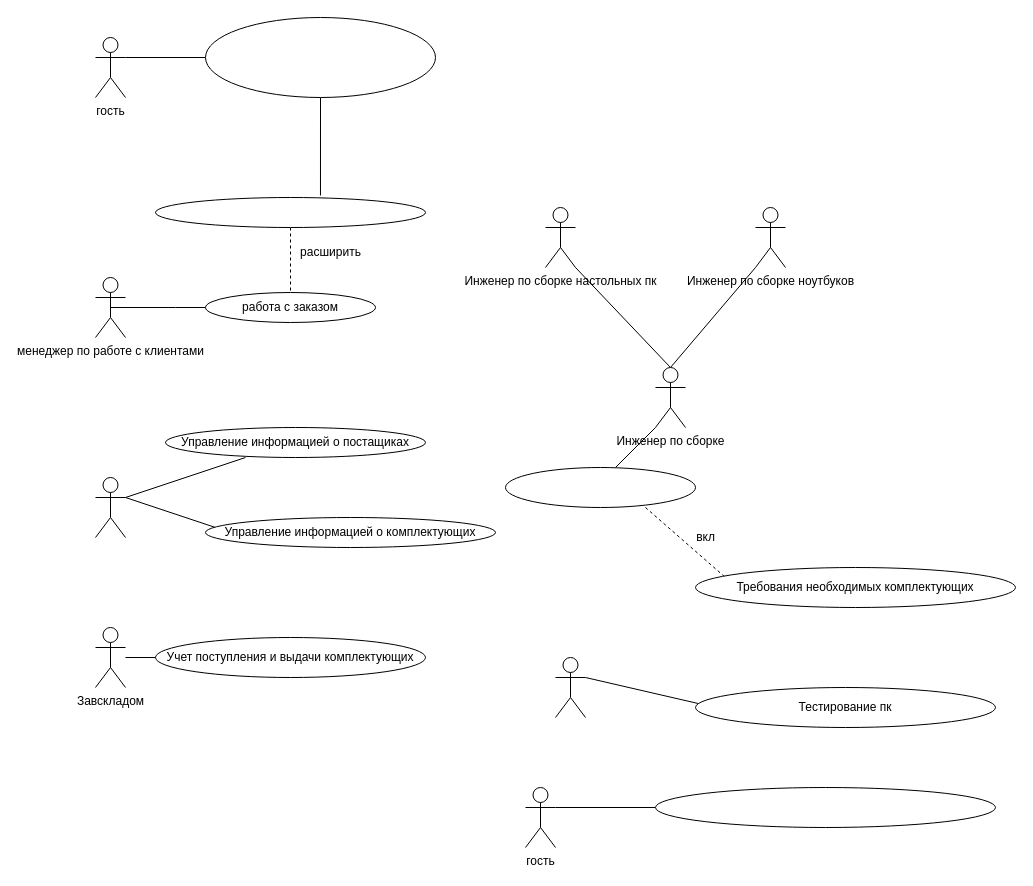
The diagram is 1033 pixels wide and 886 high, and some of its shapes have lost their labels. Here are the shapes that lost their labels. From the top down, the centre of each, then its label:
At point 320,57: "заказ пк".
At point 290,212: "Управление информацией о клиенте".
At point 110,507: "Менеджер по снабжению".
At point 600,487: "Сборка пк".
At point 570,687: "Инженер по тестированию".
At point 825,807: "получение пк".
